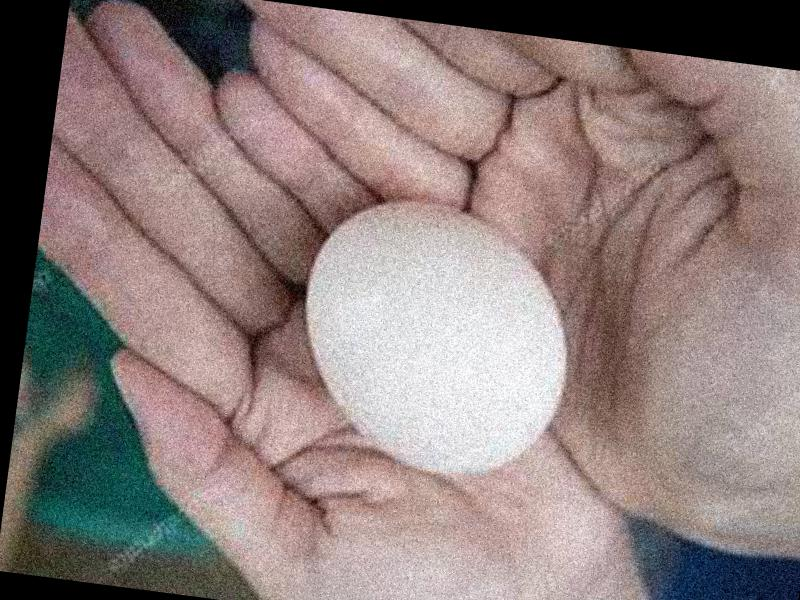Eggs: (286, 195, 582, 480)
